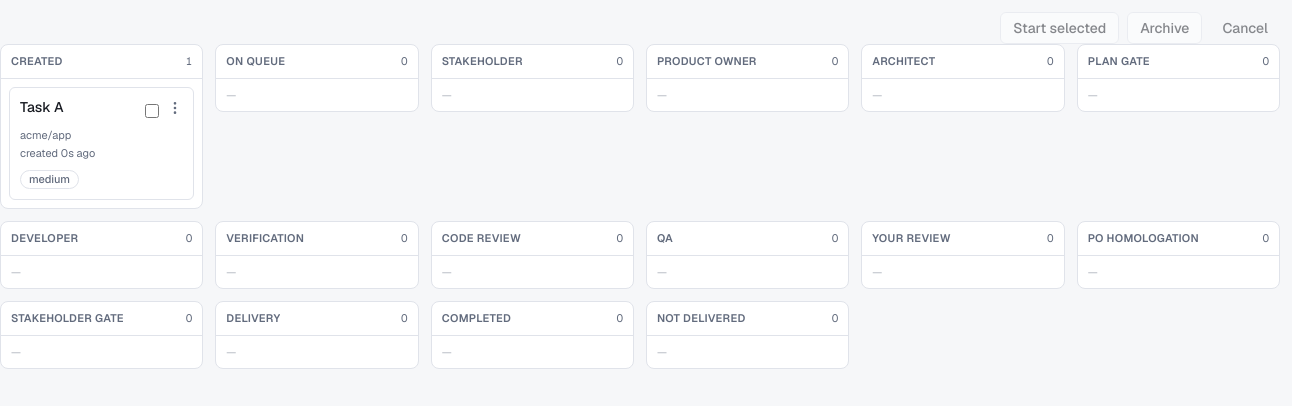
BatchStartButton outcome summary › keeps the selection and shows an inline error when the request fails outright
The image size is (1292, 406).
Step 1. Click the checkbox named "Task A" → (152, 110), box [145,104,159,118]
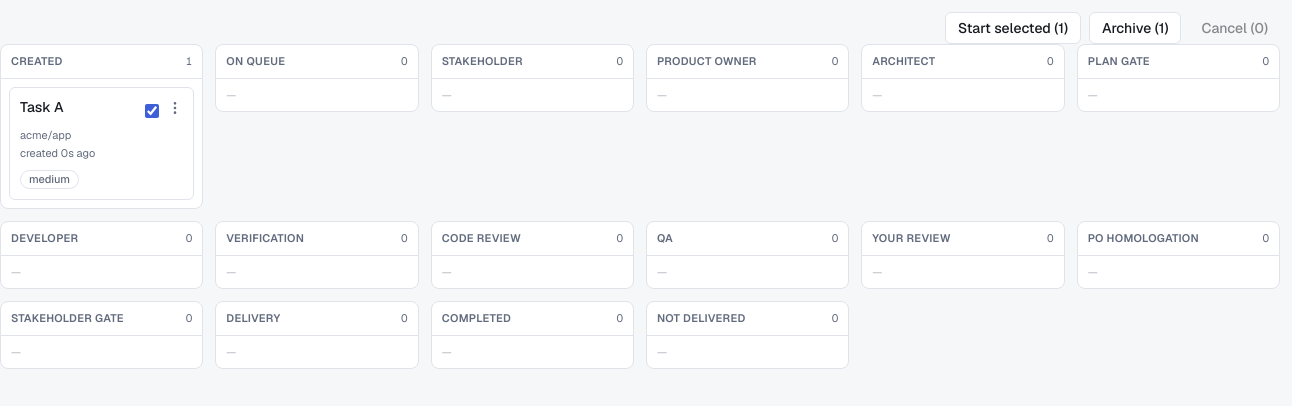
Step 2. Click the button "Start selected (1)" → (1013, 28), box [945,12,1081,44]
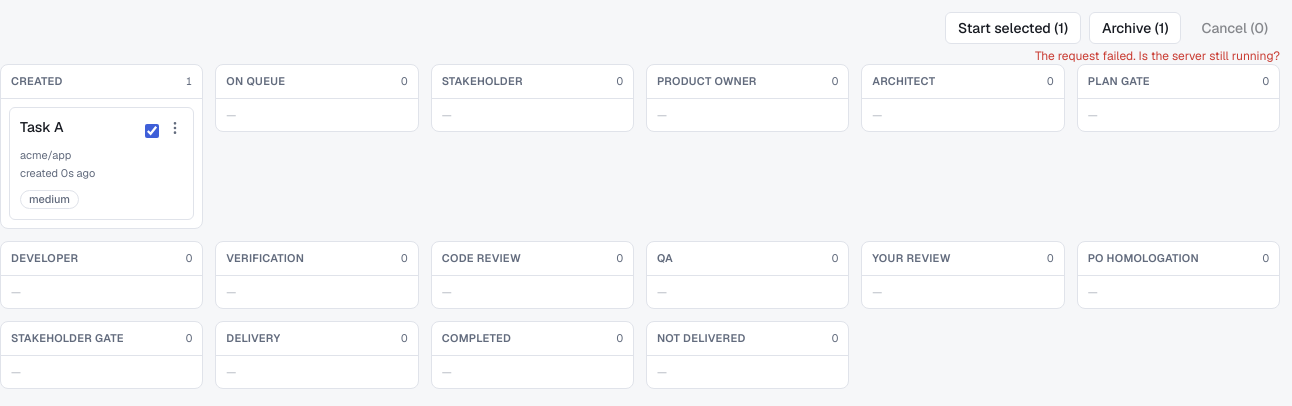
Expected: the checkbox named "Task A" is checked, [145,124,159,138]
Expected: the button "Start selected (1)" is shown, [945,12,1081,44]
Expected: the text "The request failed. Is the server still running?" is shown, [1035,48,1280,64]
